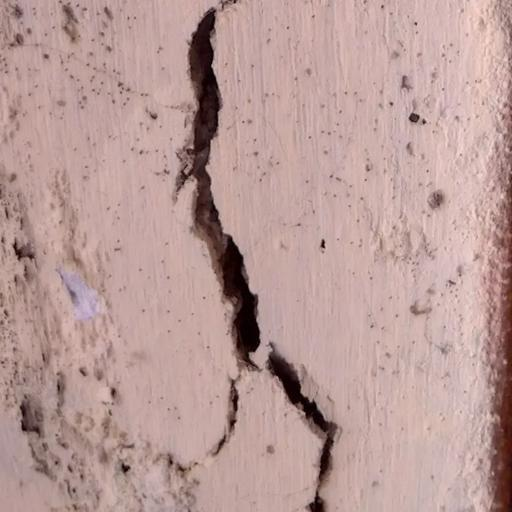major_crack: (147, 10, 353, 512)
